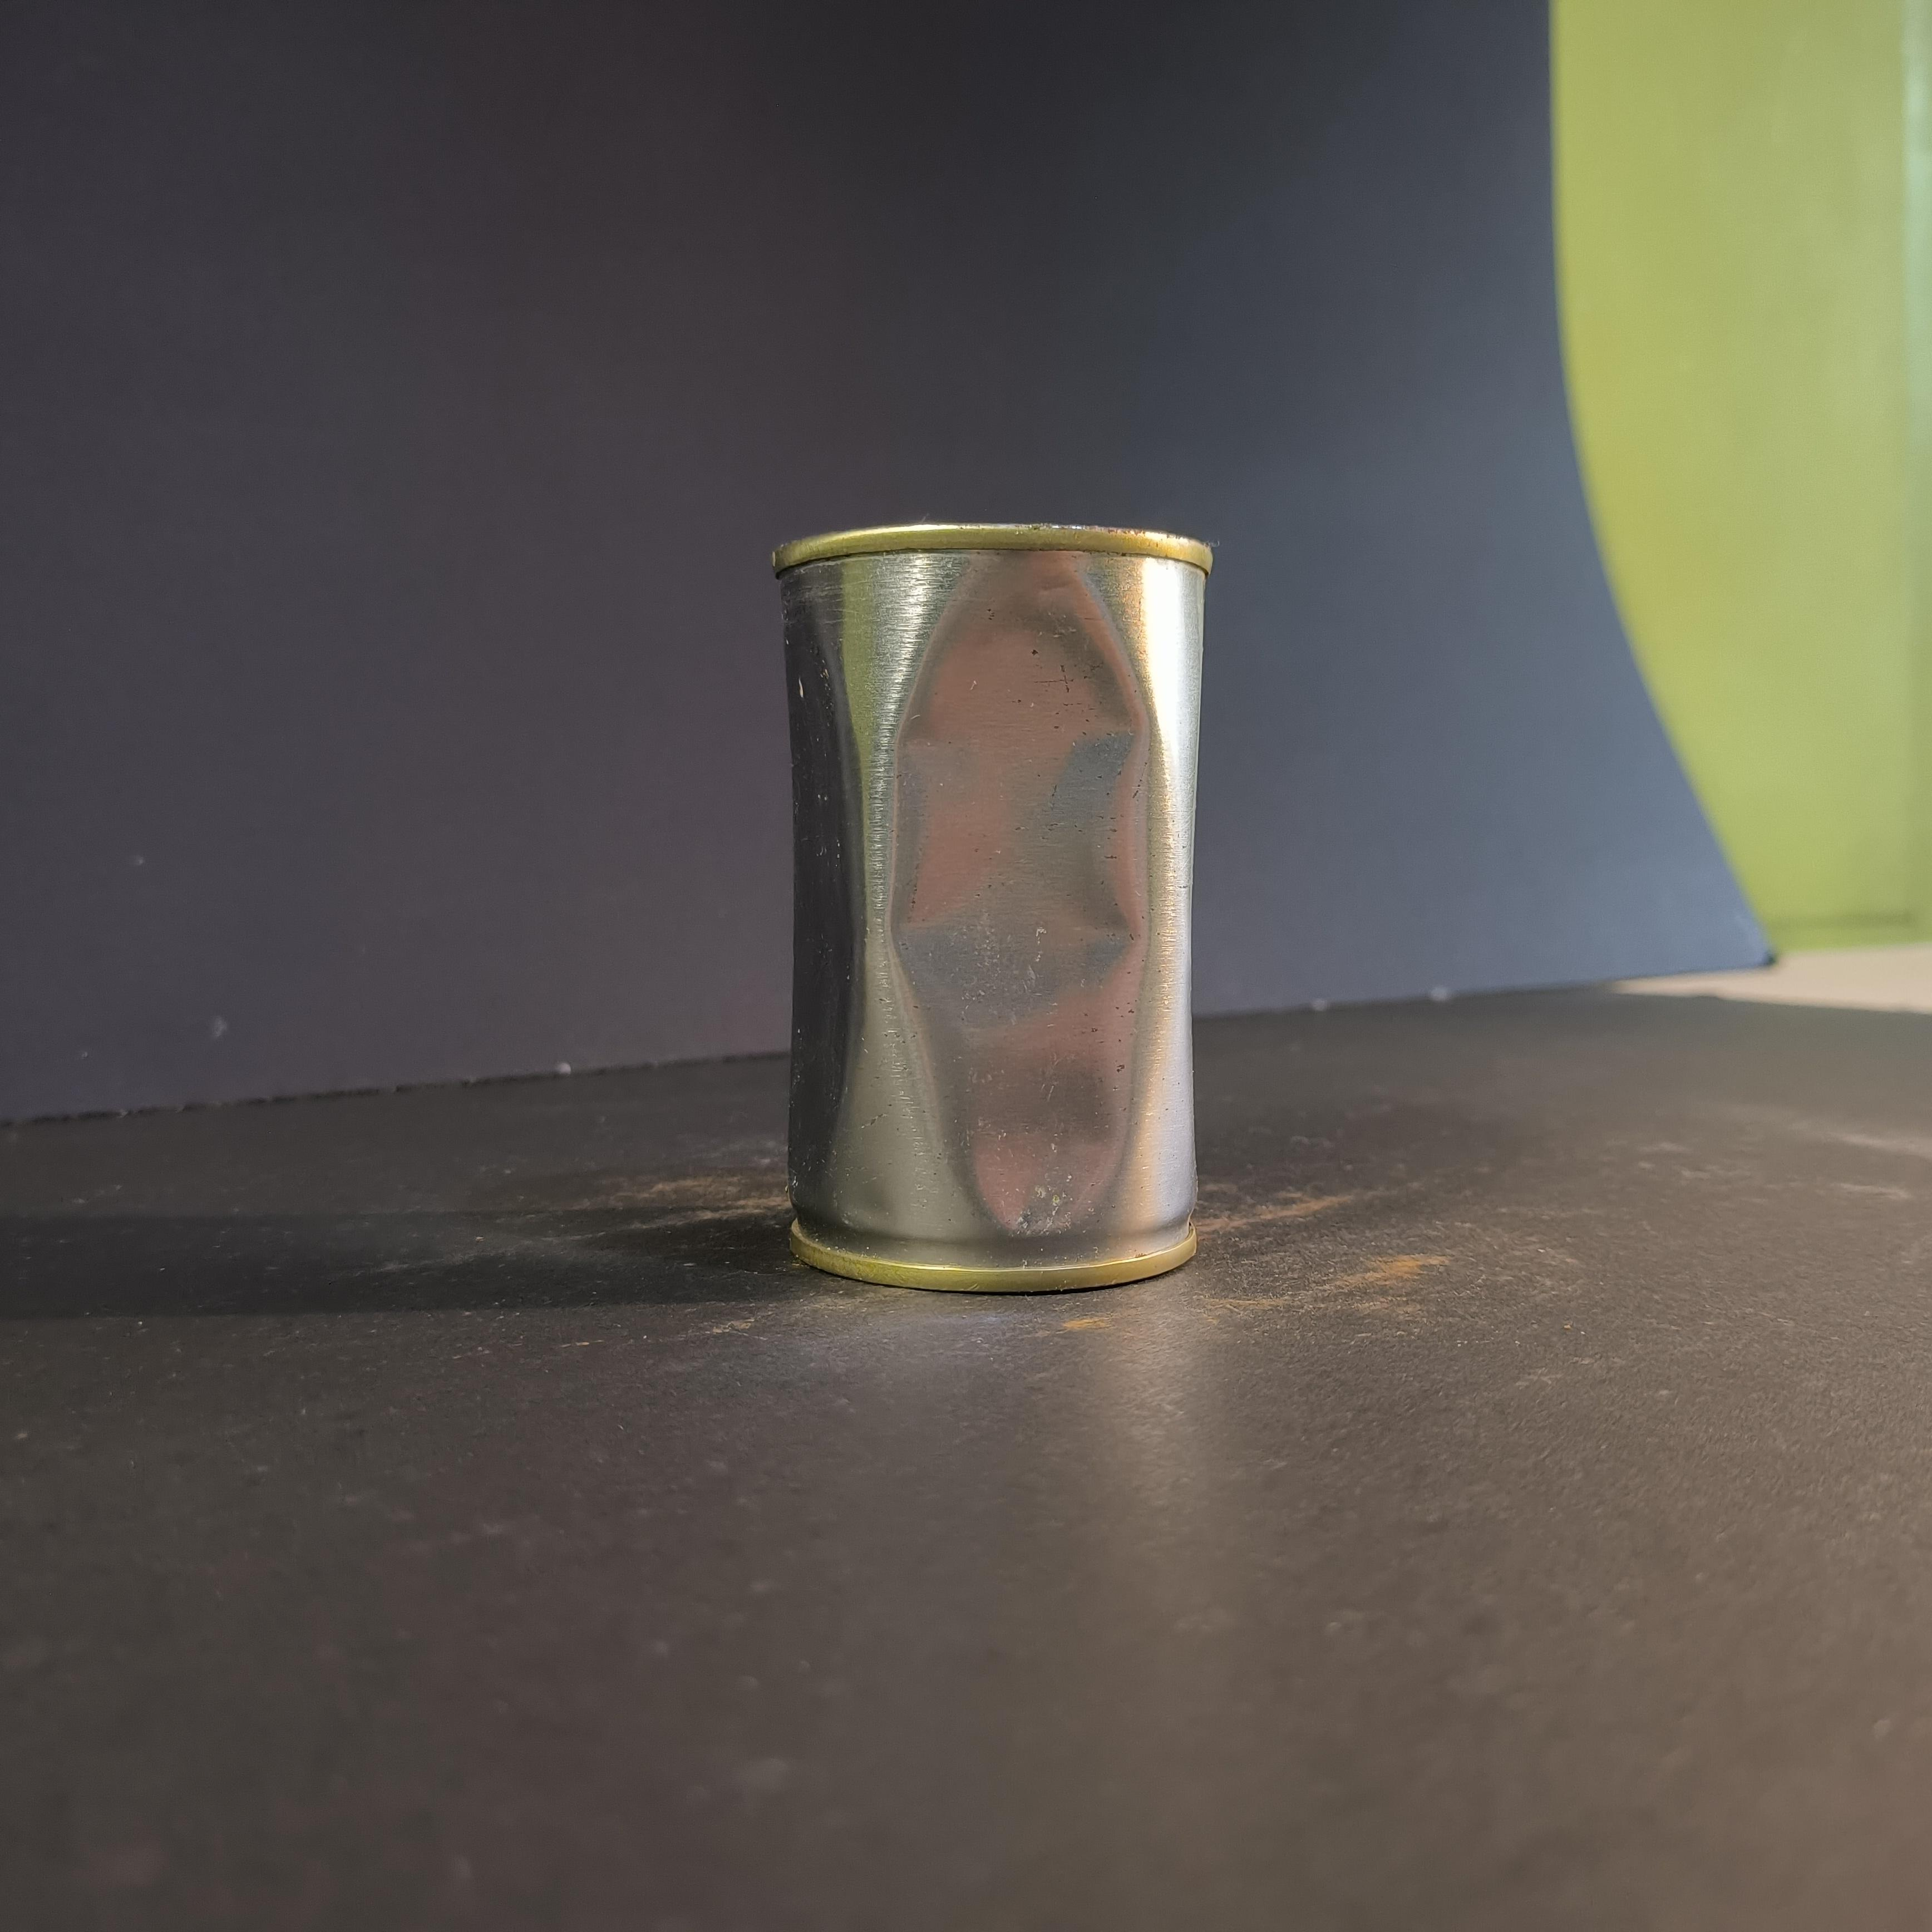Dented: (754, 510, 1249, 1313)
